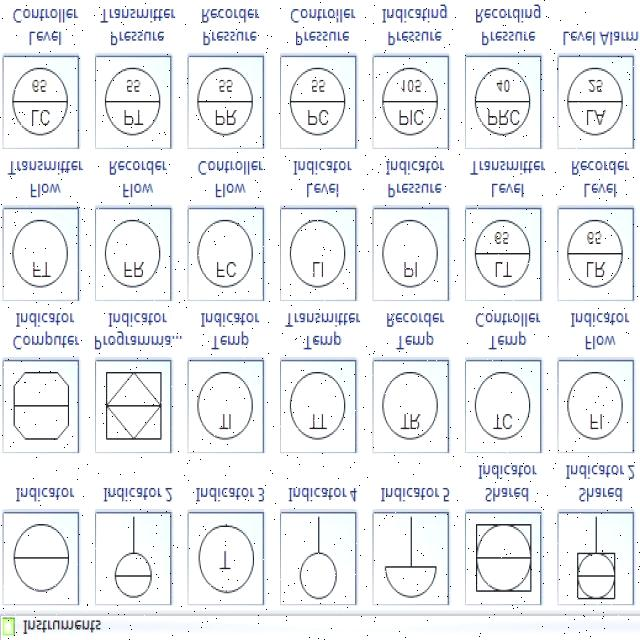Flow Controller: (190, 207, 264, 303)
Flow Recorder: (96, 202, 172, 300)
Flow Transmitter: (6, 206, 78, 300)
Level Alarm: (558, 56, 630, 148)
Level Controller: (5, 55, 76, 147)
Level Indicator: (281, 207, 355, 299)
Level Recorder: (558, 211, 632, 301)
Level Transmitter: (466, 206, 540, 300)
Pressure Controller: (280, 54, 358, 148)
Pressure Indicating Controller: (373, 58, 447, 148)
Pressure Indicator: (373, 208, 446, 300)
Pressure Recorder: (188, 57, 262, 148)
Pressure Recording Controller: (465, 56, 540, 146)
Pressure Transmitter: (96, 54, 173, 146)
Temp Indicator: (190, 357, 261, 451)
temp trasmitter: (282, 362, 356, 452)
